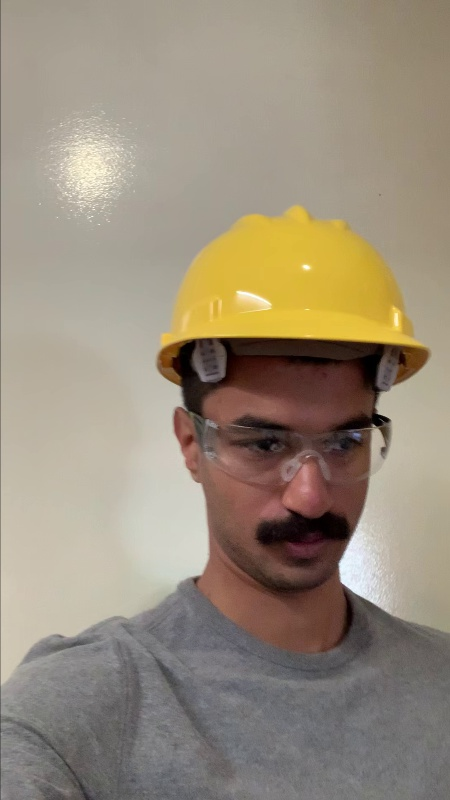glasses: (203, 411, 393, 491)
helmet: (152, 198, 436, 382)
